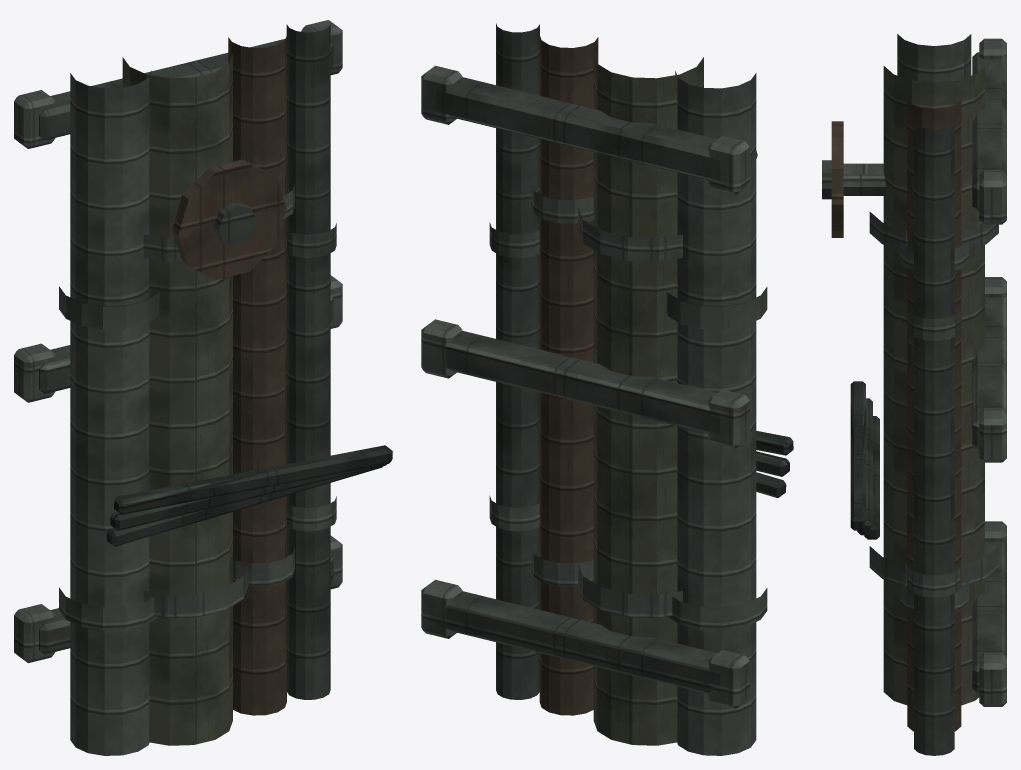
Rendered from pipe_cluster.glb.
3 renders of one model, left to right at view 1: azimuth 30°, elevation 25°; view 2: azimuth 150°, elevation 25°; view 3: azimuth 270°, elevation 25°, orthographic. The views are drawn at different scales.
Parts seen in each view (by area): view 1: pipe_cluster; view 2: pipe_cluster; view 3: pipe_cluster.
Boxes of the visible parts, box(x1,y1,x2,y2) form: pipe_cluster: box(14, 20, 392, 755); pipe_cluster: box(421, 23, 793, 755); pipe_cluster: box(822, 34, 1006, 755).
Bounding box in the file's own units: 1 × 2 × 0.535.
Materials: 1 (1 with a texture image).
